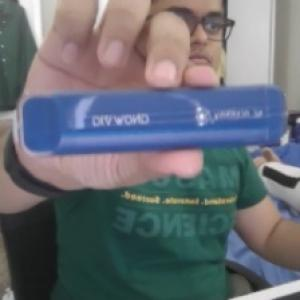Diamond-E-Ciggirate: (5, 75, 292, 159)
